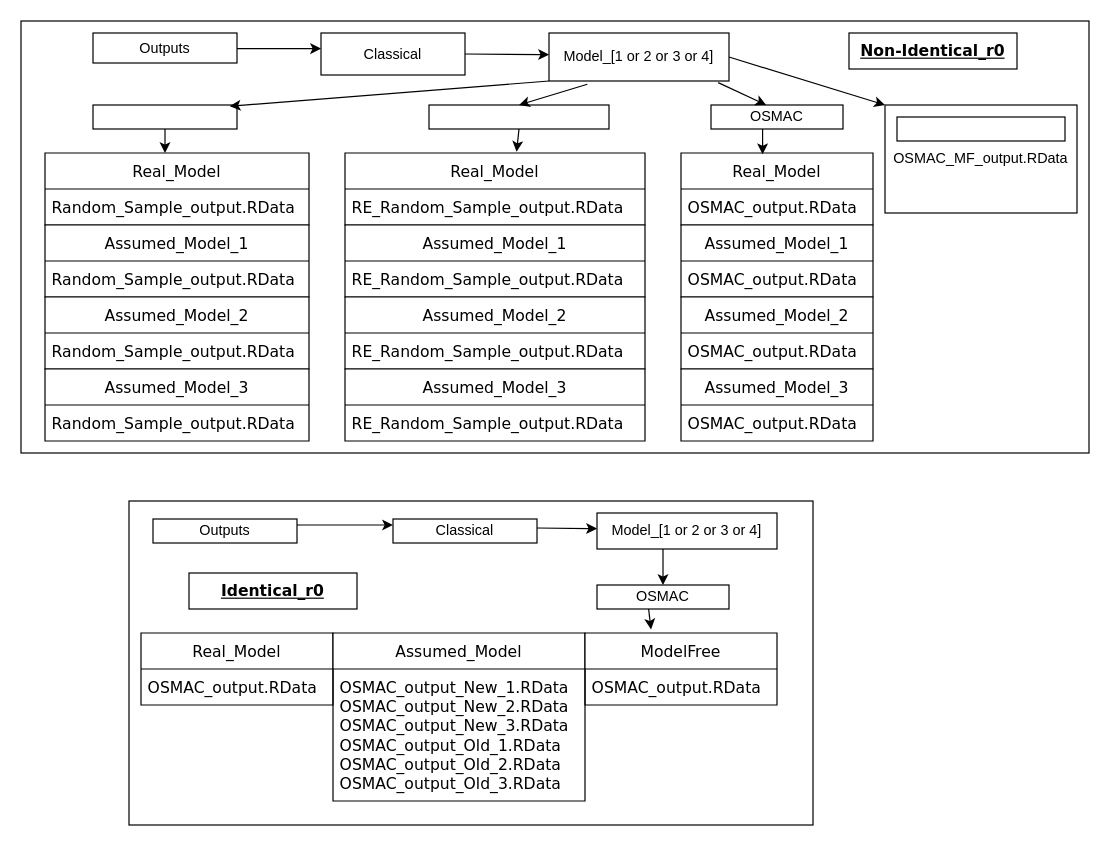
This 1110x846 diagram has some shape labels left out. The shapes that lost their labels are listed below. From the top down, each one's centre as x and y in pixels, then its label:
At pixel 164 116: "Random_Sampling".
At pixel 518 116: "RE_Random_Sampling".
At pixel 980 128: "OSMAC_Model_Free".
